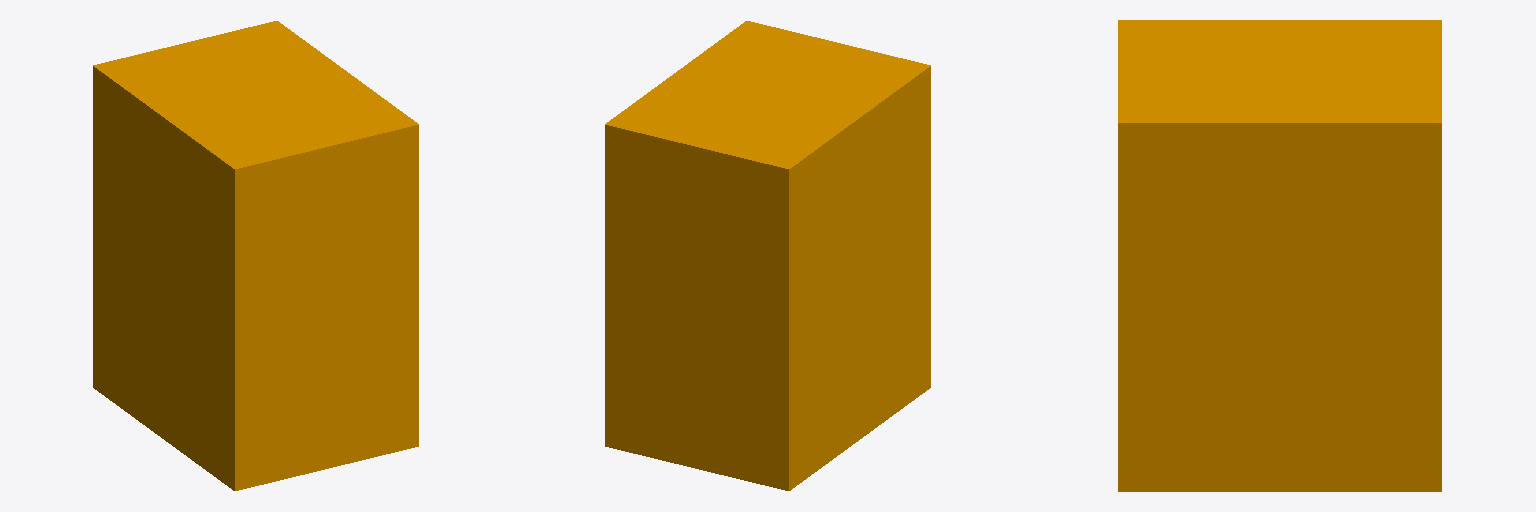
The robot description file, URDF, robot "box":
<?xml version="1.0" encoding="utf-8" ?>
<robot name="box">
    <link name="base_link">
        <visual>
            <geometry>
                <box size="3 4 5"></box>
            </geometry>
        </visual>
    </link>
</robot>

--- Facts derived from the render (not from the file) ---
3 views of the same robot in one strip: view 1: azimuth 30°, elevation 25°; view 2: azimuth 150°, elevation 25°; view 3: azimuth 270°, elevation 25° (orthographic).
Model box with 1 links and 0 joints (none), rooted at base_link, posed every joint at zero.
Visible links, largest first — view 1: base_link; view 2: base_link; view 3: base_link.
Link boxes in pixels (x1,y1,x2,y2): base_link: (93, 21, 418, 490); base_link: (605, 21, 930, 490); base_link: (1118, 20, 1441, 491).
Bounding box of the posed robot: 3 × 4 × 5 m (x, y, z).
Geometry: primitives only (box / cylinder / sphere), no mesh files.
